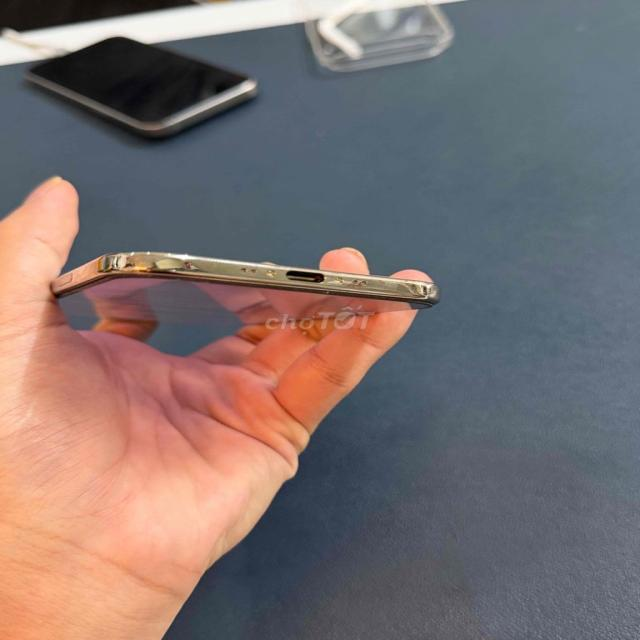scratch: (52, 251, 439, 328), (322, 270, 422, 300)
